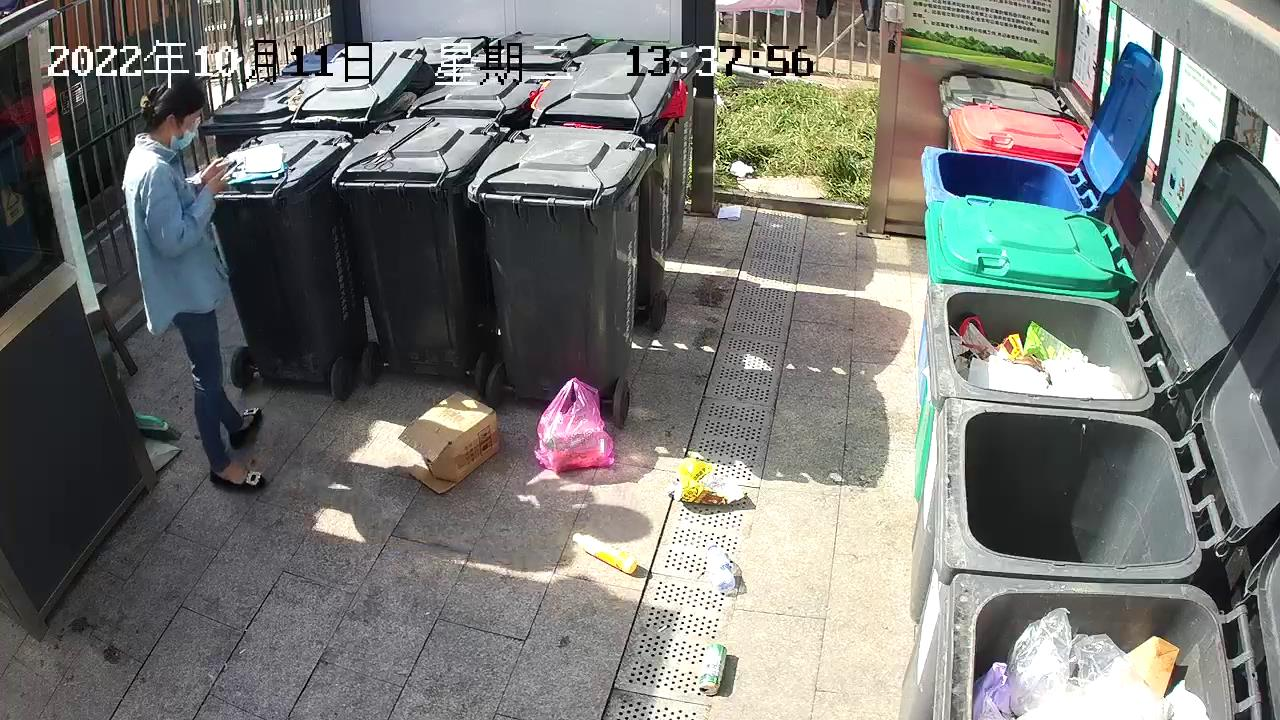garbage: (662, 456, 758, 511)
garbage-bag: (530, 372, 620, 473)
lvzhipin: (695, 638, 730, 699)
suliaozhipin: (567, 526, 642, 579), (700, 535, 740, 595)
worker: (118, 71, 275, 497)
zhizhipin: (394, 387, 505, 498)
